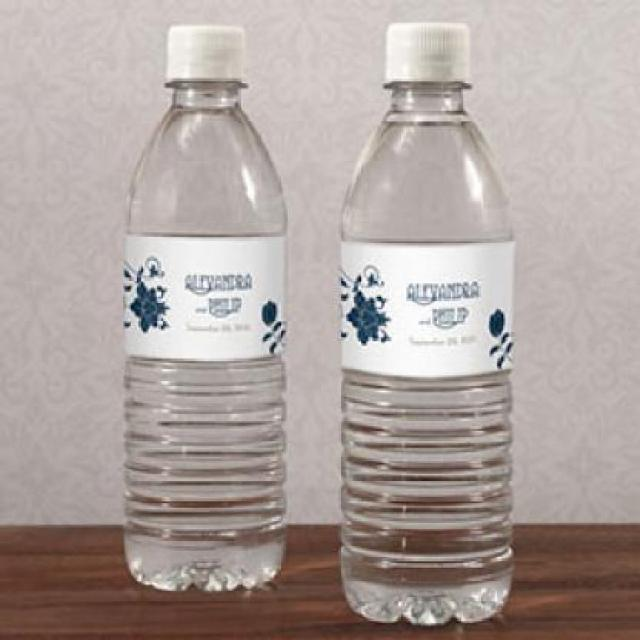bottle: (312, 14, 543, 607), (104, 18, 308, 600)
